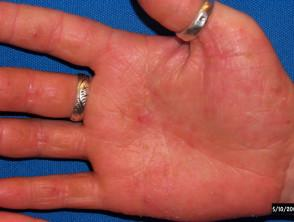Eczema: (63, 180, 99, 200), (140, 183, 164, 209), (128, 107, 152, 132), (143, 85, 167, 108), (162, 159, 186, 182), (37, 179, 65, 198), (29, 126, 53, 148), (196, 101, 219, 121), (26, 23, 47, 44), (181, 119, 200, 142), (203, 51, 223, 70), (49, 86, 69, 105), (206, 180, 224, 201), (86, 26, 108, 43), (242, 46, 261, 65), (100, 38, 120, 56), (266, 76, 282, 98), (235, 24, 254, 42), (158, 58, 176, 76), (8, 78, 24, 97), (140, 143, 156, 160), (237, 105, 252, 122)
